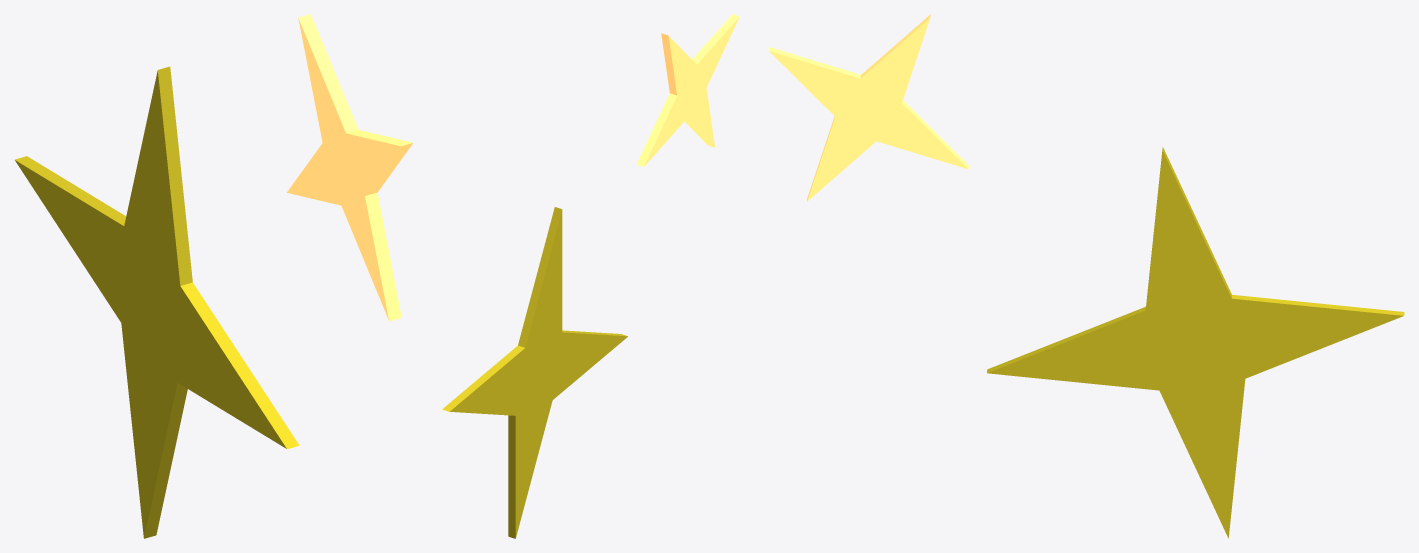
File: Star 1.fbx
3 views of the same model, side by side, from view 1: azimuth 30°, elevation 25°; view 2: azimuth 150°, elevation 25°; view 3: azimuth 270°, elevation 25° (orthographic). The views are drawn at different scales.
Visible parts, largest first — view 1: Star; view 2: Star; view 3: Star.
Boxes of the visible parts, <box> form: Star: <box>15,14,413,538</box>; Star: <box>442,14,739,538</box>; Star: <box>768,14,1404,538</box>.
Bounding box in the file's own units: 61.71 × 613 × 700.
